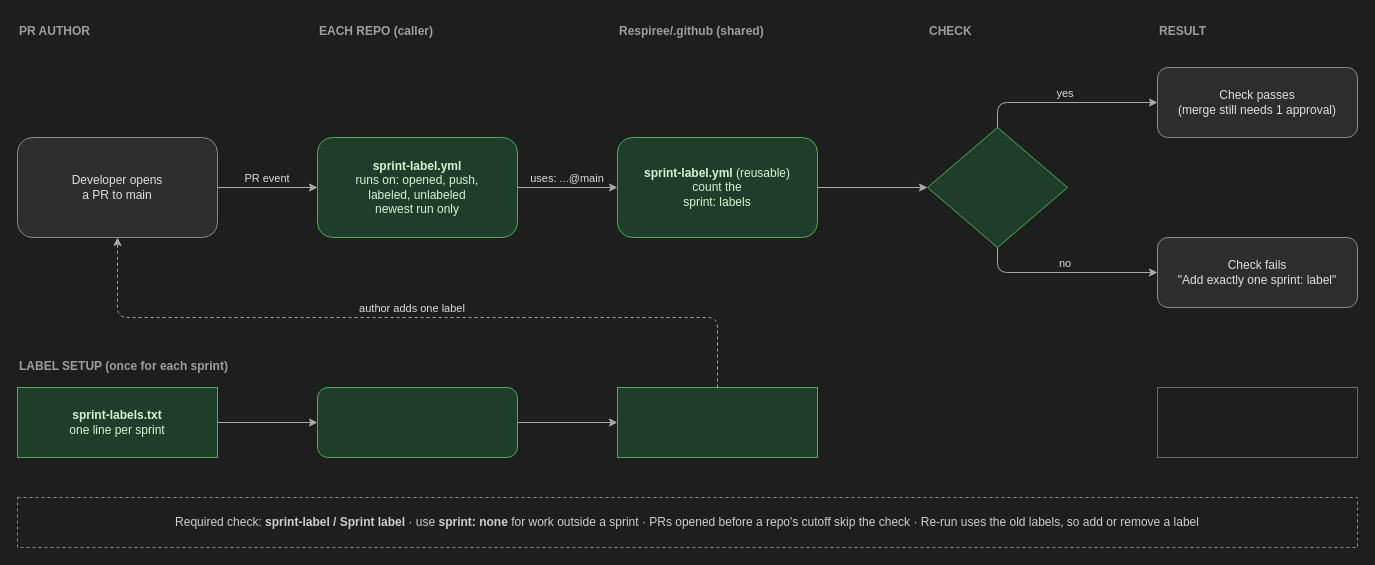
This 1375x565 diagram has some shape labels left out. Here are the shapes that lost their labels. From the top down, the box of each, then its label:
(926, 126, 1068, 248): exactly one sprint: label?
(316, 386, 518, 458): scripts/sprint-labels.sh create or update labels
(616, 386, 818, 458): sprint: labels + sprint: none in the 6 repos
(1156, 386, 1358, 458): ■ green = added by this change ■ grey = exists today
